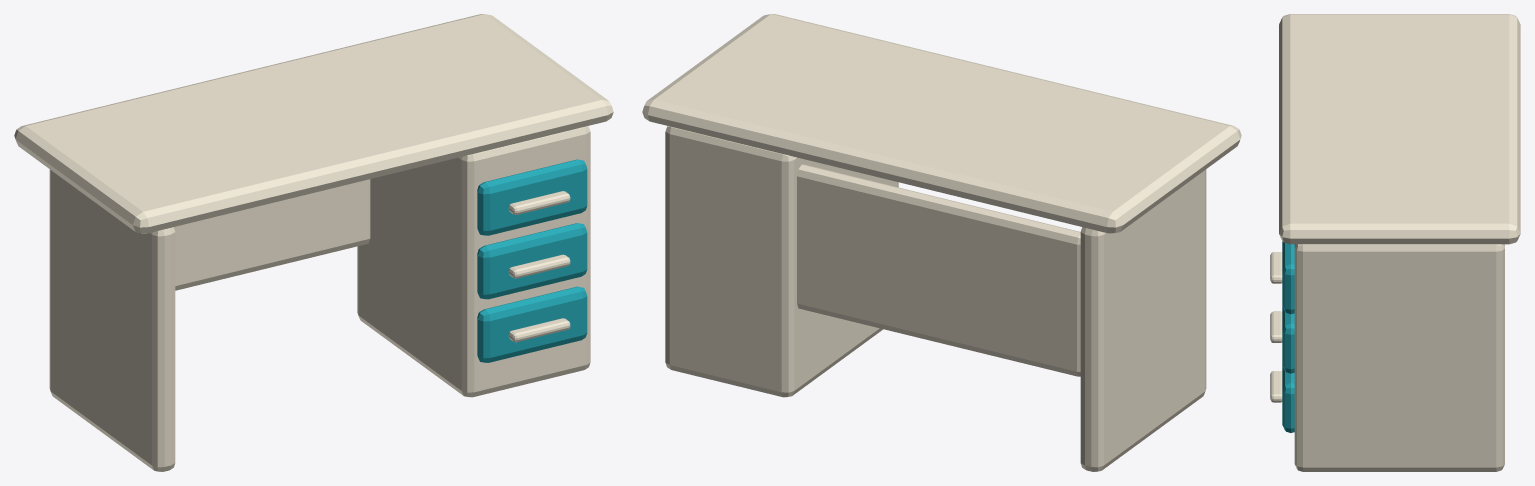
The model's file is consultation_desk_standard.glb.
3 views of the same model, side by side, from view 1: azimuth 30°, elevation 25°; view 2: azimuth 150°, elevation 25°; view 3: azimuth 270°, elevation 25° (orthographic). The views are drawn at different scales.
Parts seen in each view (by area): view 1: STATIC_cream.019, MOVING_drawer, MOVING_drawer.001, MOVING_drawer.002; view 2: STATIC_cream.019; view 3: STATIC_cream.019, MOVING_drawer.002, MOVING_drawer, MOVING_drawer.001.
Boxes of the visible parts, x1,y1,x2,y2 form: STATIC_cream.019: [14, 14, 613, 471]; MOVING_drawer: [477, 286, 587, 362]; MOVING_drawer.001: [477, 223, 587, 299]; MOVING_drawer.002: [477, 159, 587, 235]; STATIC_cream.019: [642, 14, 1241, 471]; STATIC_cream.019: [1270, 14, 1520, 471]; MOVING_drawer.002: [1282, 241, 1294, 314]; MOVING_drawer: [1282, 366, 1294, 432]; MOVING_drawer.001: [1282, 306, 1294, 373].
Size of the model in its own units: 1.5 by 0.8125 by 0.725.
